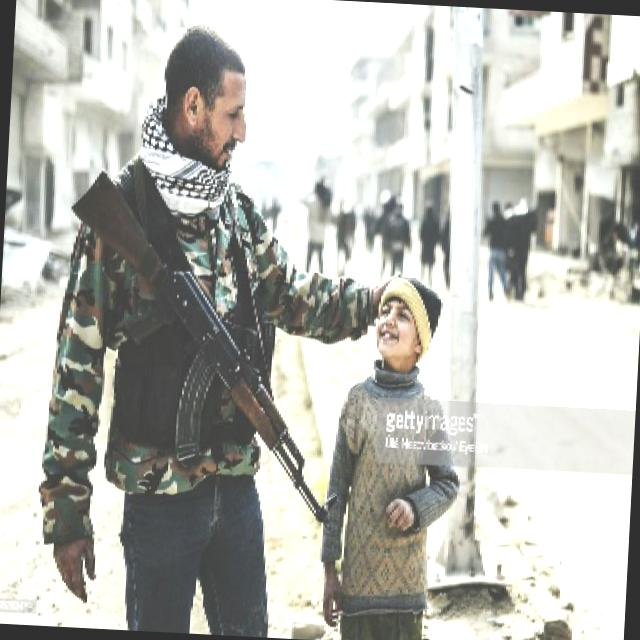long weapon: (51, 163, 348, 524)
